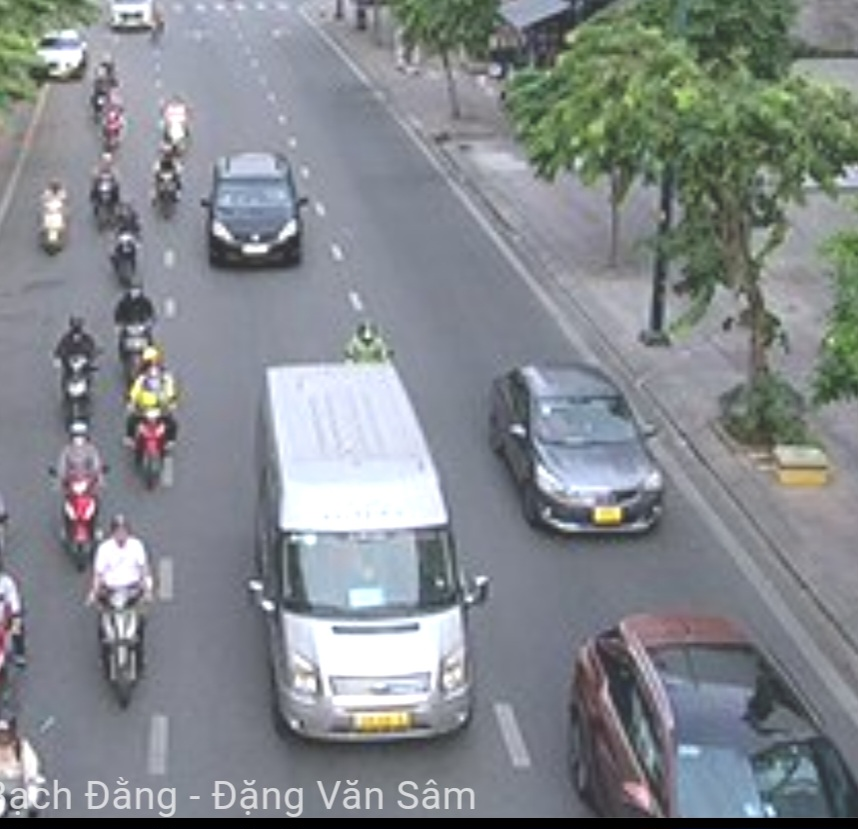car: (260, 368, 472, 738), (569, 620, 851, 819), (488, 364, 665, 537), (207, 146, 305, 267)
